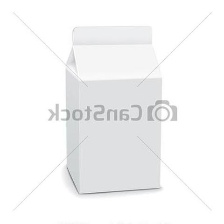carton: (60, 19, 165, 197)
